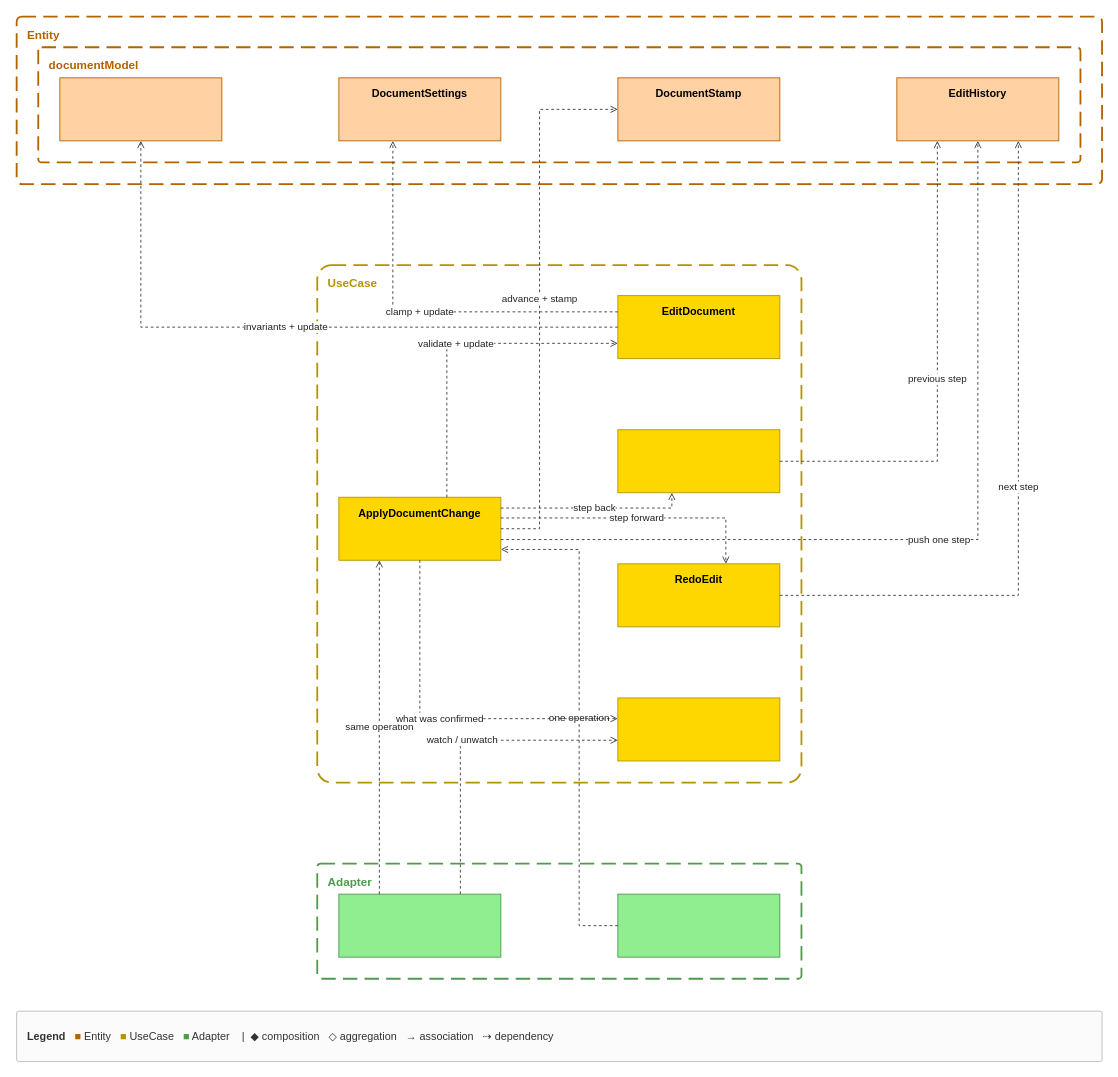
This 1118x1077 diagram has some shape labels left out. The centre of each missing label's shape, as x and y in pixels:
"AgentApiEndpoint" goes at pixel 419 925.
"InputCommandTranslator" goes at pixel 698 925.
"NotifyChangeWatchers" goes at pixel 698 729.
"Schedule" goes at pixel 140 109.
"UndoEdit" goes at pixel 698 461.
